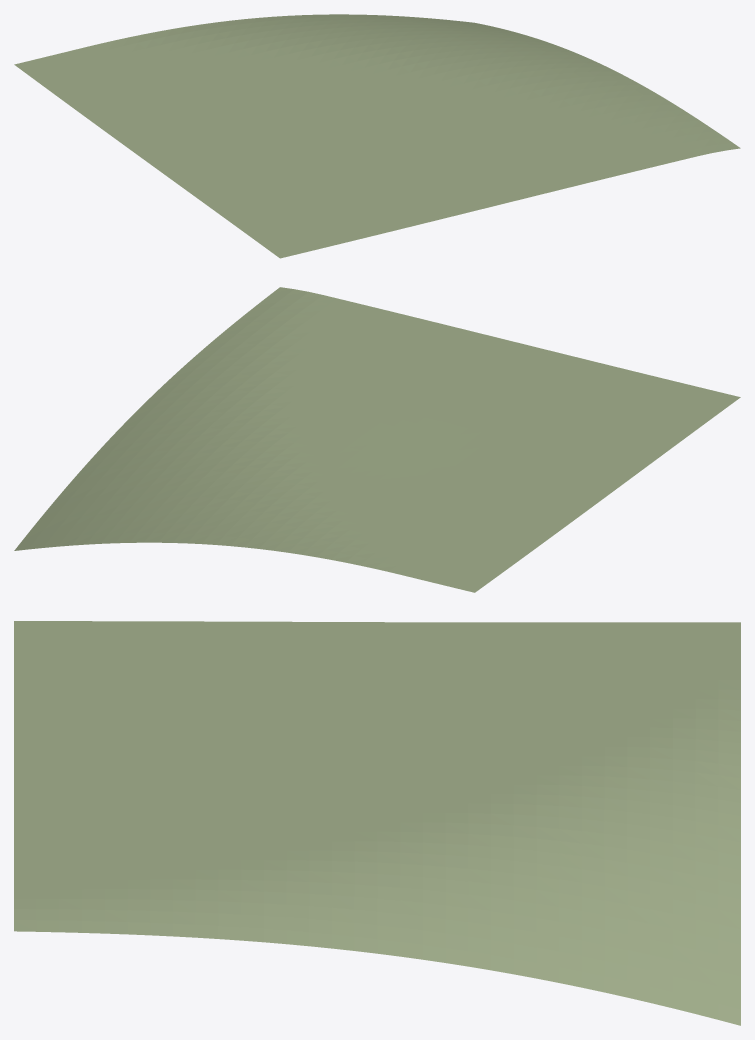
File: desert-27-19.glb
3 views of the same model, one above another, from view 1: azimuth 30°, elevation 25°; view 2: azimuth 150°, elevation 25°; view 3: azimuth 270°, elevation 25° (orthographic). The views are drawn at different scales.
Parts seen in each view (by area): view 1: desert-27-19; view 2: desert-27-19; view 3: desert-27-19.
Boxes of the visible parts, bbox=[...] form: desert-27-19: bbox=[14, 14, 740, 258]; desert-27-19: bbox=[14, 287, 740, 592]; desert-27-19: bbox=[14, 621, 740, 1025].
Bounding box in the file's own units: 512 × 76.63 × 512.
